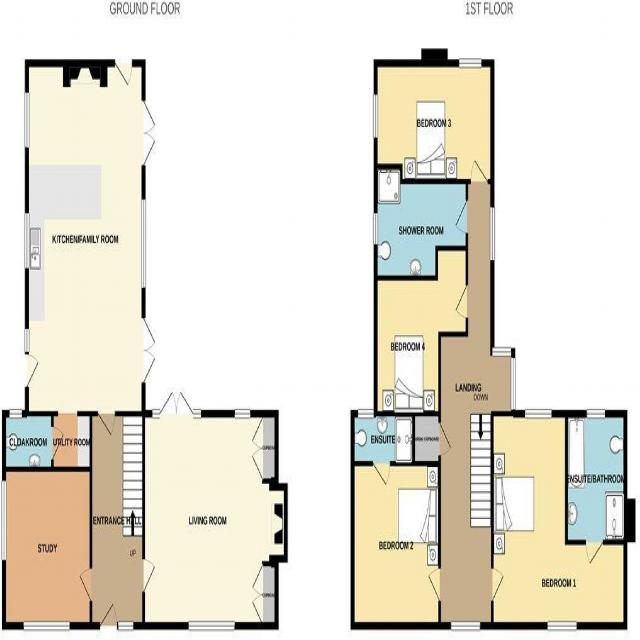DOOR: (453, 198, 469, 235), (142, 555, 157, 594), (114, 59, 134, 88), (24, 353, 40, 389), (78, 565, 93, 603), (98, 602, 118, 630), (490, 566, 505, 603), (438, 420, 453, 457), (427, 565, 441, 604), (469, 157, 489, 184), (371, 461, 391, 488), (454, 282, 468, 320), (97, 411, 116, 437)
DOUBLE DOOR: (141, 98, 157, 169), (159, 388, 194, 420), (142, 316, 157, 385)
ROOM: (23, 59, 157, 438), (141, 389, 288, 629), (490, 410, 627, 631), (373, 48, 495, 184), (374, 246, 469, 417), (351, 459, 441, 629)
WINDOW: (22, 620, 71, 632), (141, 196, 147, 290), (187, 620, 235, 631), (1, 478, 7, 562), (450, 620, 482, 632), (546, 620, 578, 632), (24, 90, 30, 149), (24, 211, 30, 270), (489, 204, 495, 262), (523, 408, 552, 419), (458, 57, 483, 69), (373, 90, 379, 140), (491, 346, 513, 359), (511, 357, 516, 411), (232, 408, 252, 420), (586, 407, 606, 419), (117, 620, 134, 632), (356, 408, 374, 419), (373, 210, 378, 246), (24, 327, 30, 354), (9, 409, 23, 420), (150, 409, 160, 420), (192, 407, 201, 419)
